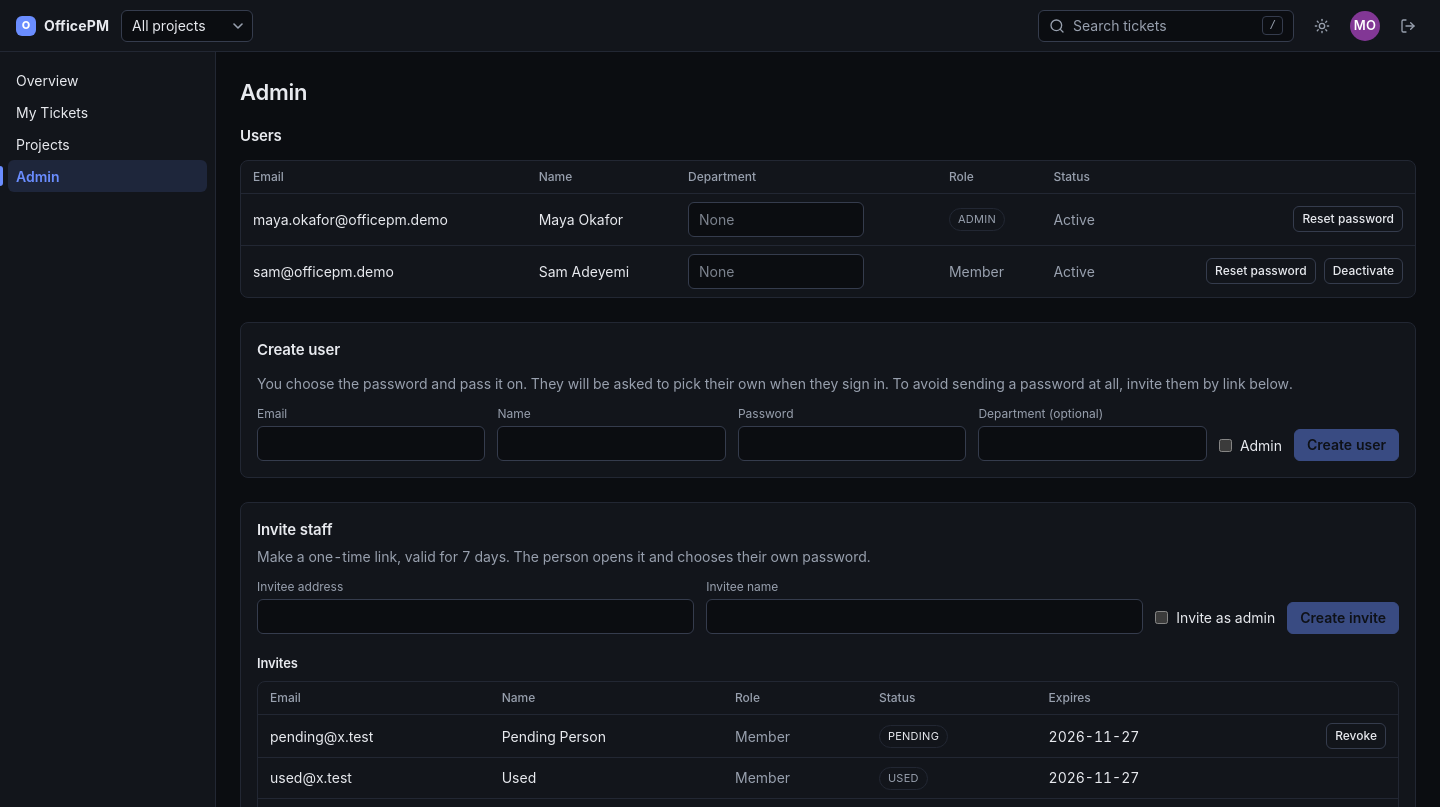
it: invite staff › lists invites by status, and revokes a pending one after a confirm step
Expected: the row "pending@x.test" is shown, [888,729,939,743]
Expected: the row "used@x.test Used Member used 2026-11-27" is shown, [258,758,1398,798]
Click the button with aria-label "Revoke the invite for pending@x.test" at (1356, 736), box [1326,723,1386,749]
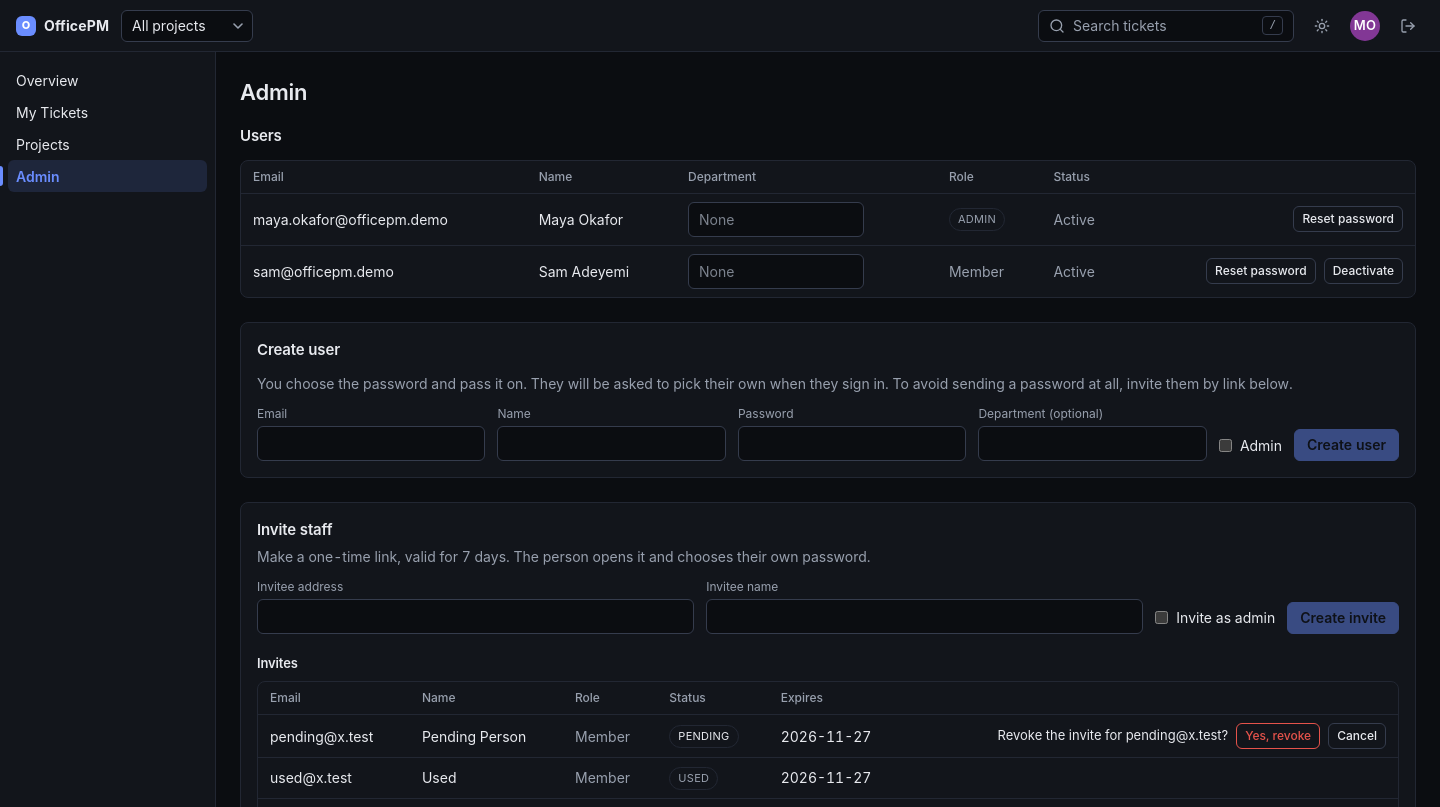
Click the button "Yes, revoke" at (1278, 736), box [1236,723,1320,749]
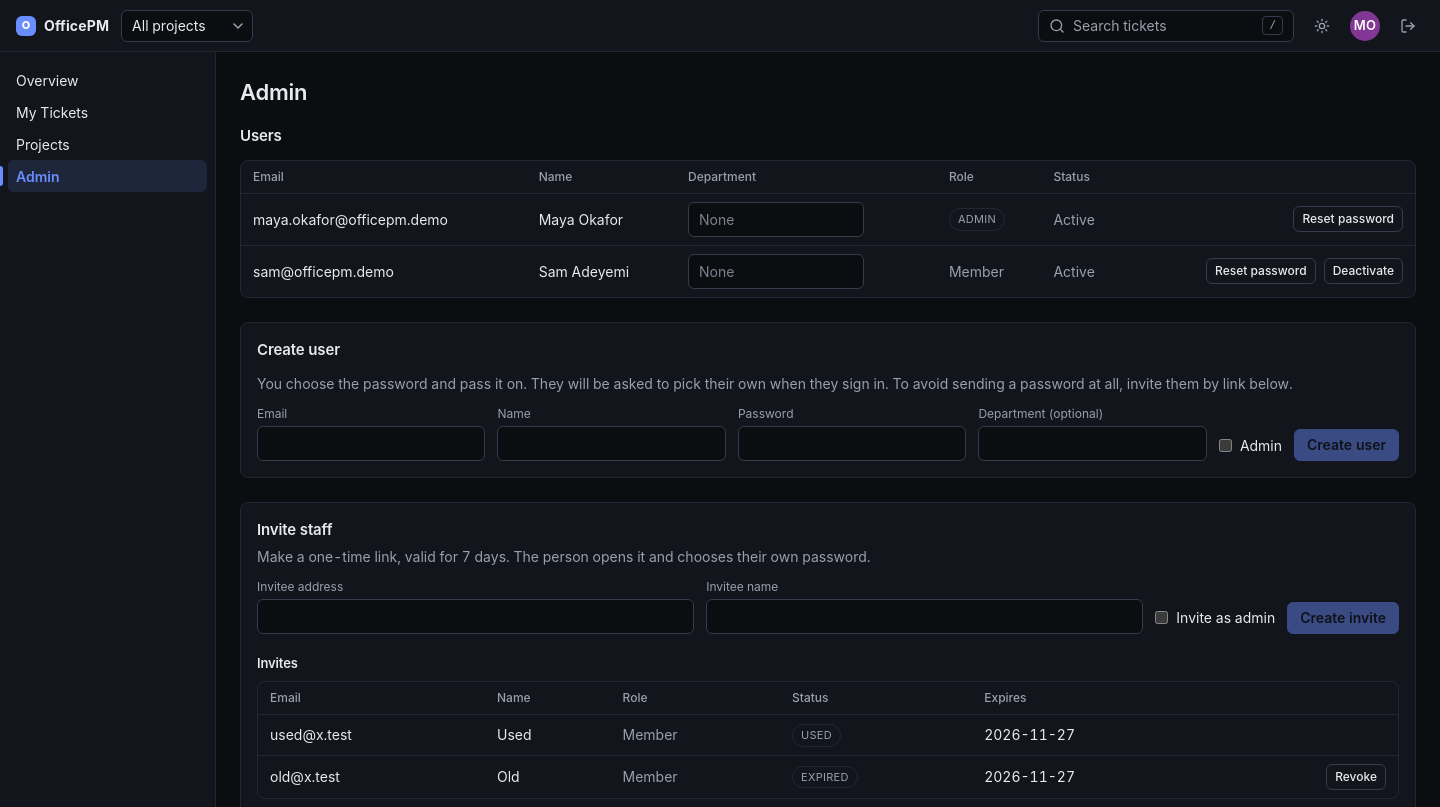
Result: the cell "pending@x.test" is gone
